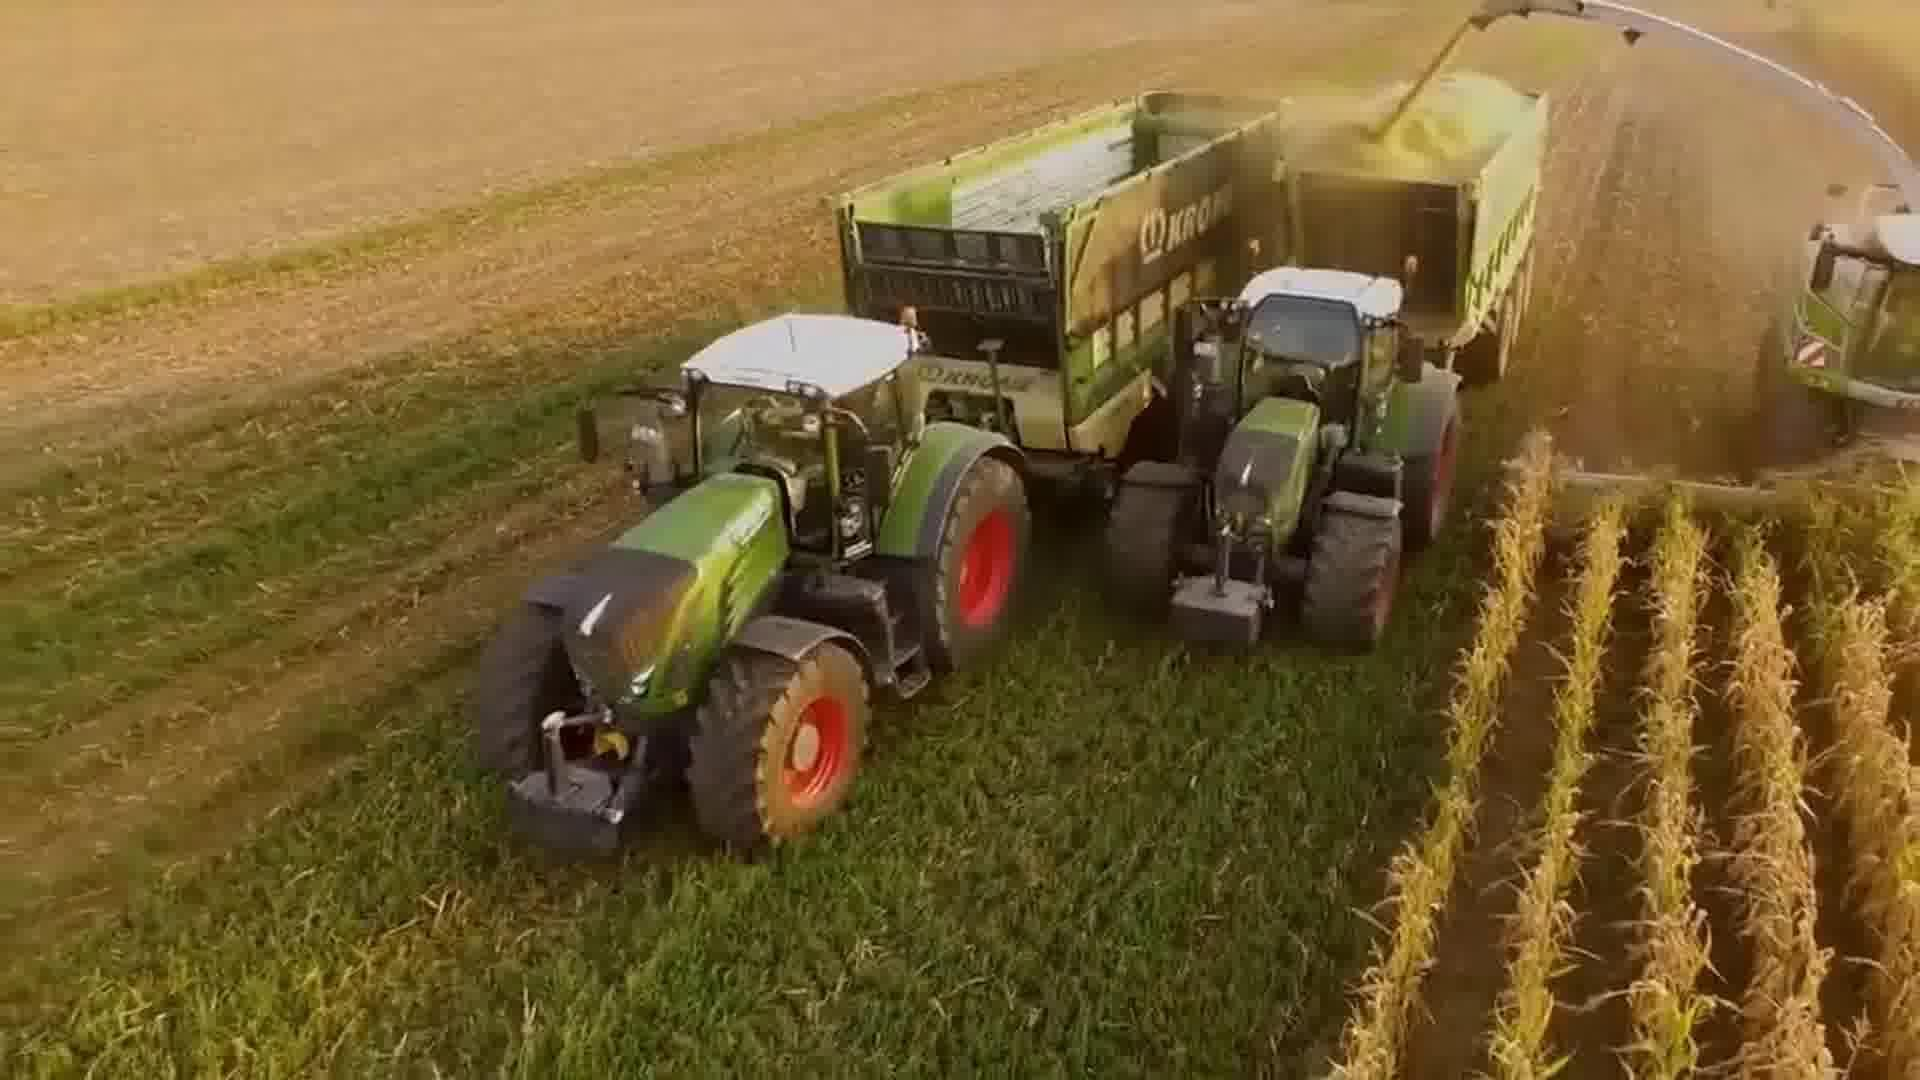combine harvester: (1467, 3, 1920, 543)
tractor: (466, 297, 1046, 859), (1099, 260, 1474, 660)
trailer: (823, 80, 1287, 476), (1283, 69, 1549, 380)
